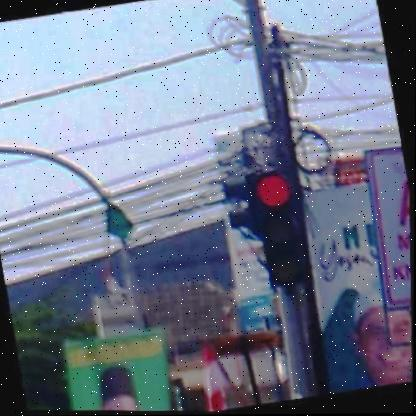Traffic Light -Red-: (251, 170, 313, 294)
